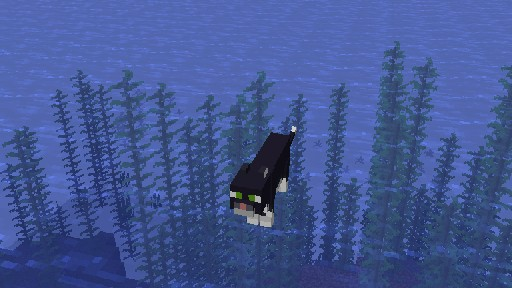cat: (229, 125, 297, 227)
